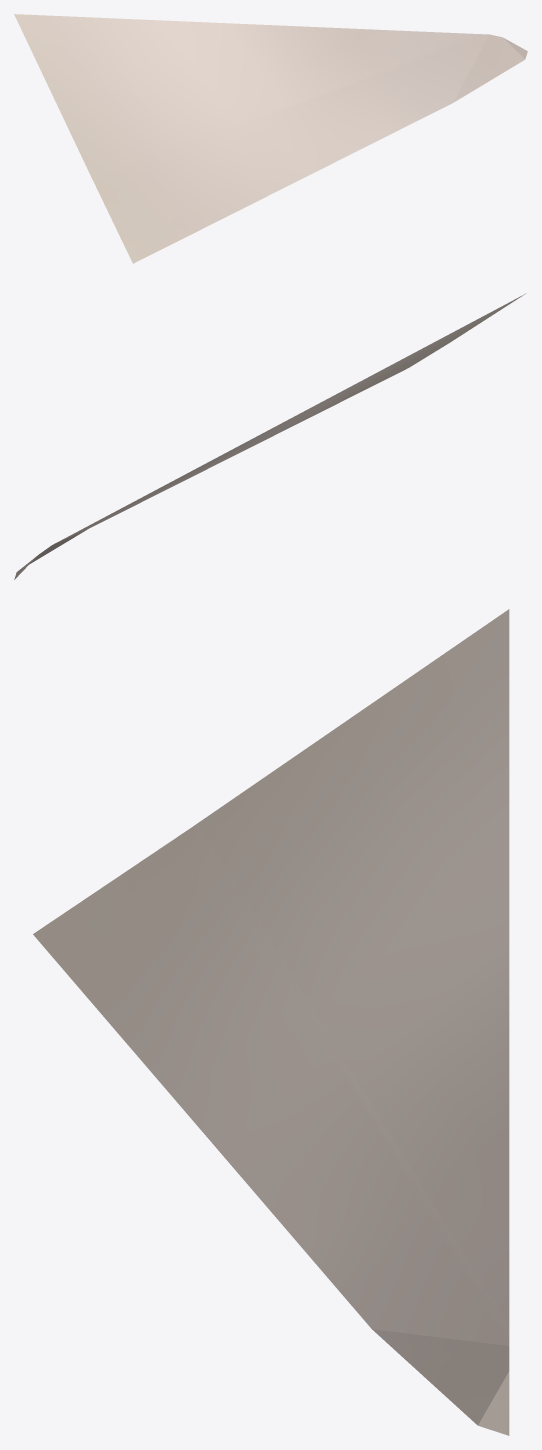
The picture shows the model from 3 angles, top to bottom: view 1: azimuth 30°, elevation 25°; view 2: azimuth 210°, elevation 25°; view 3: azimuth 270°, elevation 25°; orthographic projection. The views are drawn at different scales.
Size of the model in its own units: 0.0312 by 0.00944 by 0.0125.
1 material, 1 textured.
